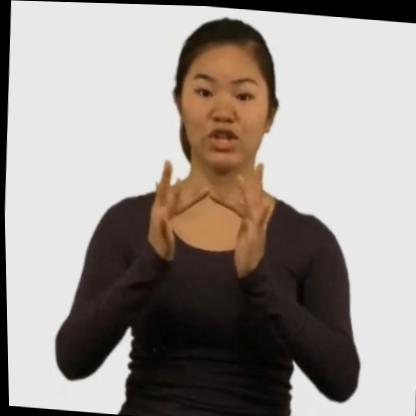Internet: (132, 144, 286, 290)
